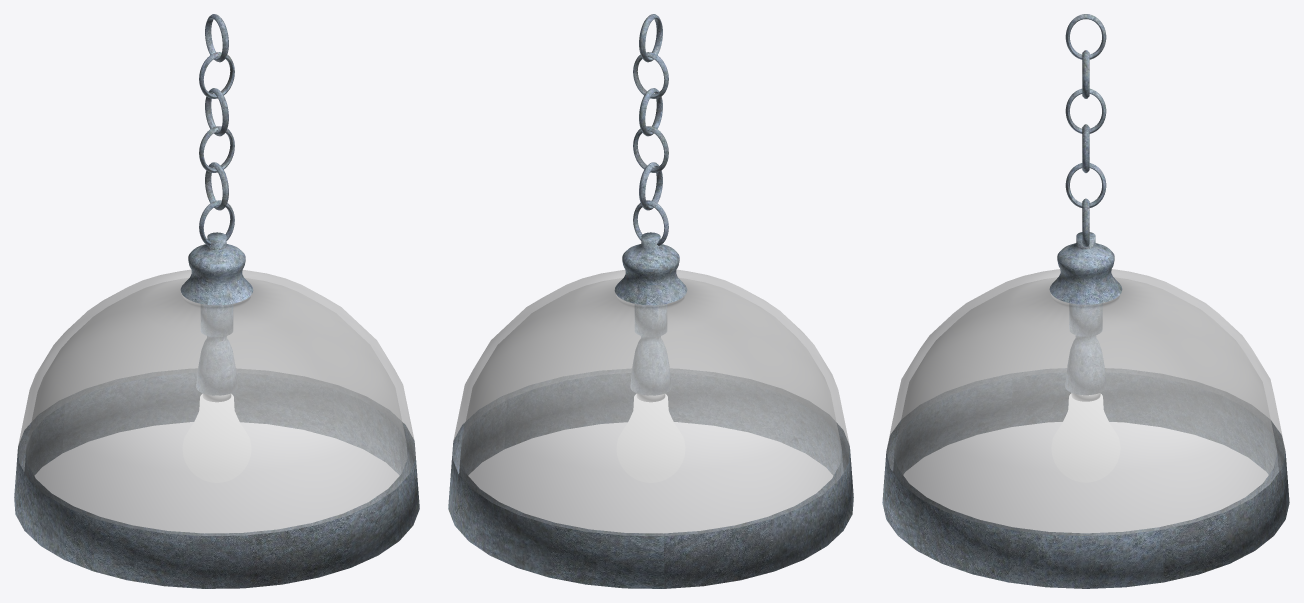
3 views of the same model, side by side, from view 1: azimuth 30°, elevation 25°; view 2: azimuth 150°, elevation 25°; view 3: azimuth 270°, elevation 25° (orthographic).
Visible parts, largest first — view 1: Ceiling Light, Light Bulb; view 2: Ceiling Light, Light Bulb; view 3: Ceiling Light, Light Bulb.
Boxes of the visible parts, bbox=[...] form: Ceiling Light: bbox=[14, 14, 419, 588]; Light Bulb: bbox=[182, 393, 251, 482]; Ceiling Light: bbox=[448, 14, 853, 588]; Light Bulb: bbox=[616, 393, 685, 482]; Ceiling Light: bbox=[882, 14, 1289, 588]; Light Bulb: bbox=[1051, 393, 1120, 482].
Bounding box in the file's own units: 6.94 × 9.2 × 6.94.
5 materials, 1 textured.
